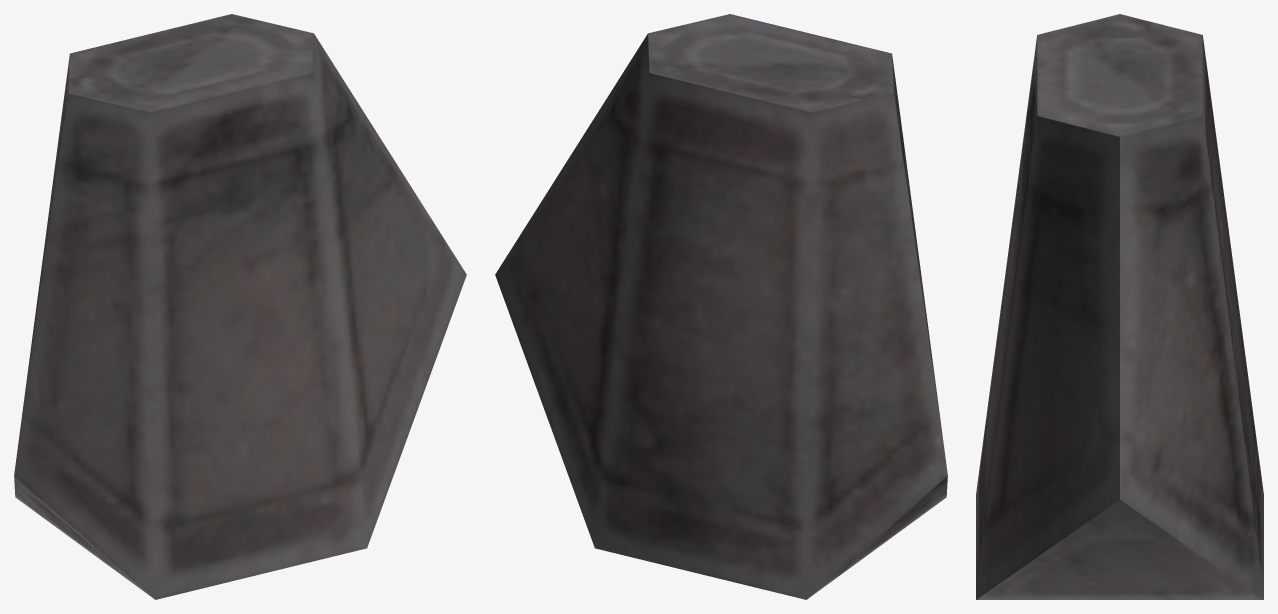
File: sm_dwarf_iron_sword_pommel_a.fbx
The picture shows the model from 3 angles, left to right: view 1: azimuth 30°, elevation 25°; view 2: azimuth 150°, elevation 25°; view 3: azimuth 270°, elevation 25°; orthographic projection. The views are drawn at different scales.
Visible parts, largest first — view 1: sm_dwarf_iron_sword_pommel_a; view 2: sm_dwarf_iron_sword_pommel_a; view 3: sm_dwarf_iron_sword_pommel_a.
Boxes of the visible parts, <box> form: sm_dwarf_iron_sword_pommel_a: <box>14,14,466,599</box>; sm_dwarf_iron_sword_pommel_a: <box>495,14,947,599</box>; sm_dwarf_iron_sword_pommel_a: <box>976,14,1263,599</box>.
Size of the model in its own units: 0.1119 by 0.06 by 0.1085.
1 material, 1 textured.
